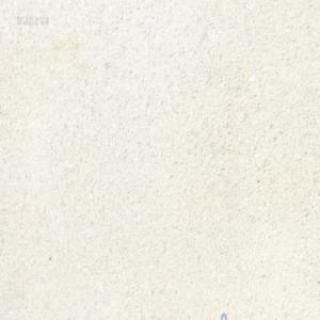Washertrack_idkeyframe: (219, 311, 226, 319)
